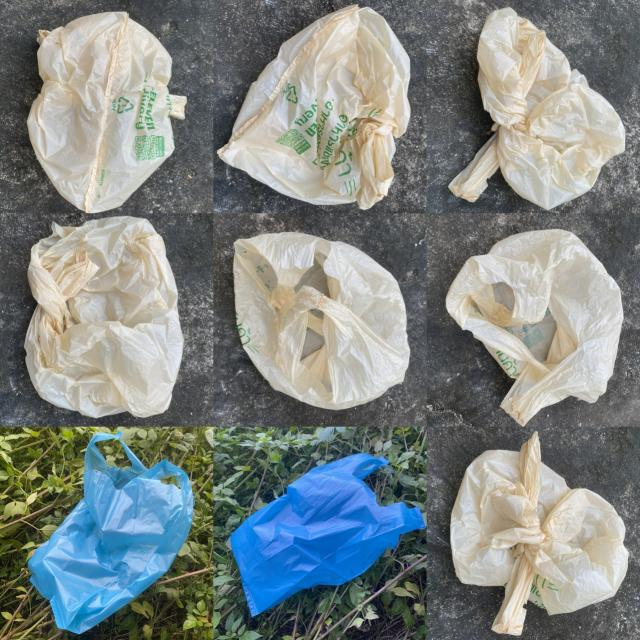Single-layer Plastic: (218, 5, 410, 208), (451, 434, 629, 635), (449, 8, 625, 208), (446, 230, 622, 424), (29, 431, 194, 634), (25, 216, 184, 418), (230, 454, 425, 616), (234, 232, 410, 409), (28, 12, 175, 212)
